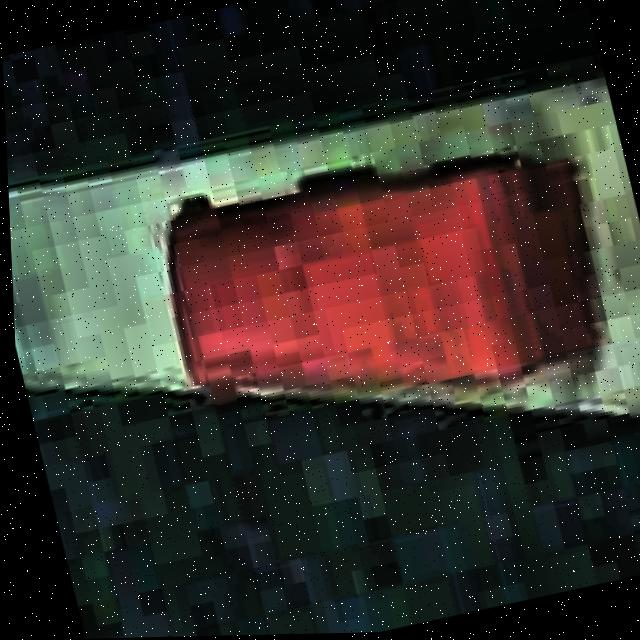bus: (138, 115, 626, 453)
